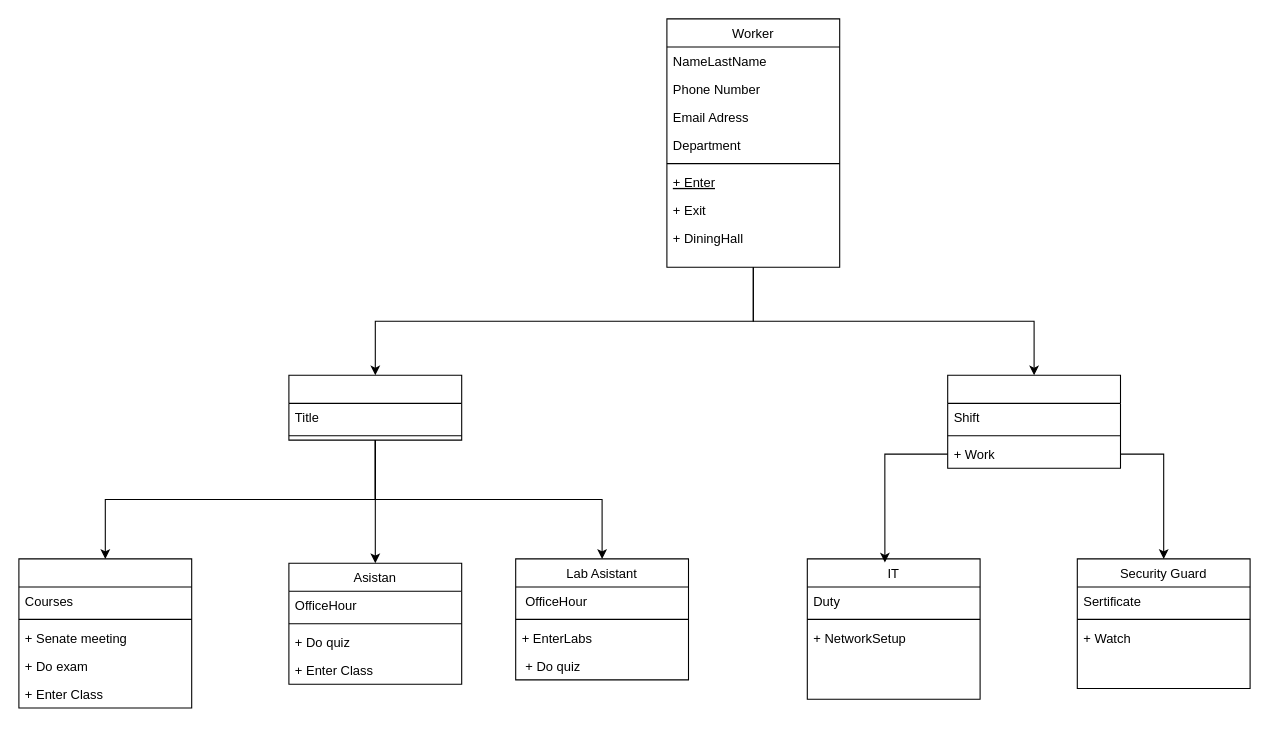
Image size: 1269x730. Some labels were removed from this diagram. Each missing label, with the box of its shape:
Academician: (288, 374, 462, 440)
Lecturer: (18, 558, 192, 708)
Officer: (947, 374, 1120, 468)
